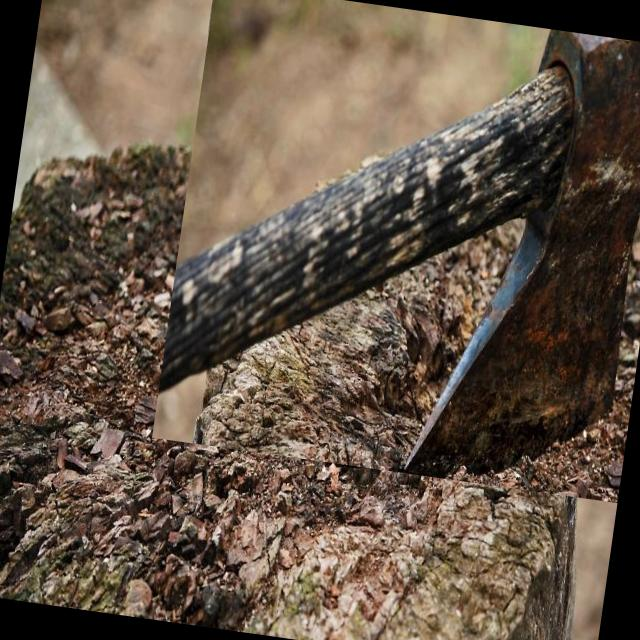Axe: (159, 30, 640, 476)
